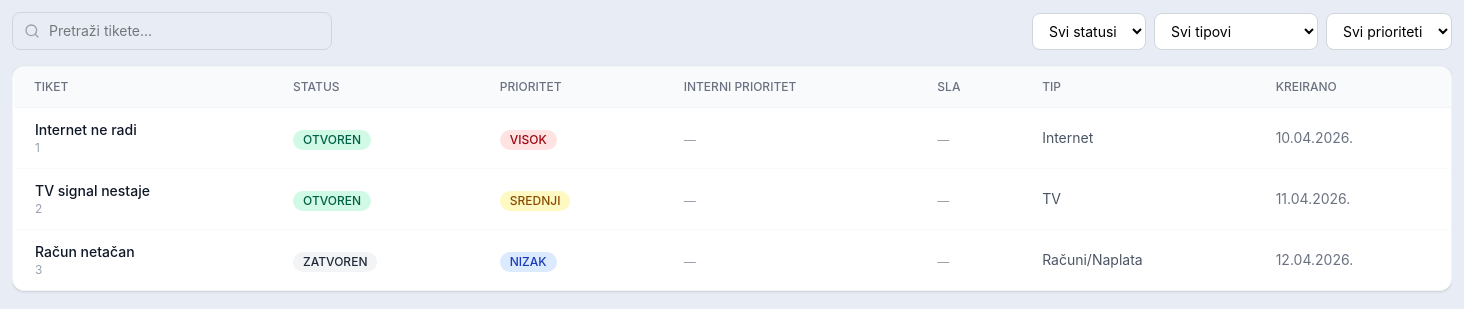
PB-32 Tickets system flow — agent pregled svih tiketa › agent otvara listu svih tiketa, vidi tikete od različitih klijenata i može ih pretražiti
// Agent pretražuje tikete po naslovu
In the field with placeholder "Pretraži tikete...": (172,31) 12,12 -> 332,50, type "internet"
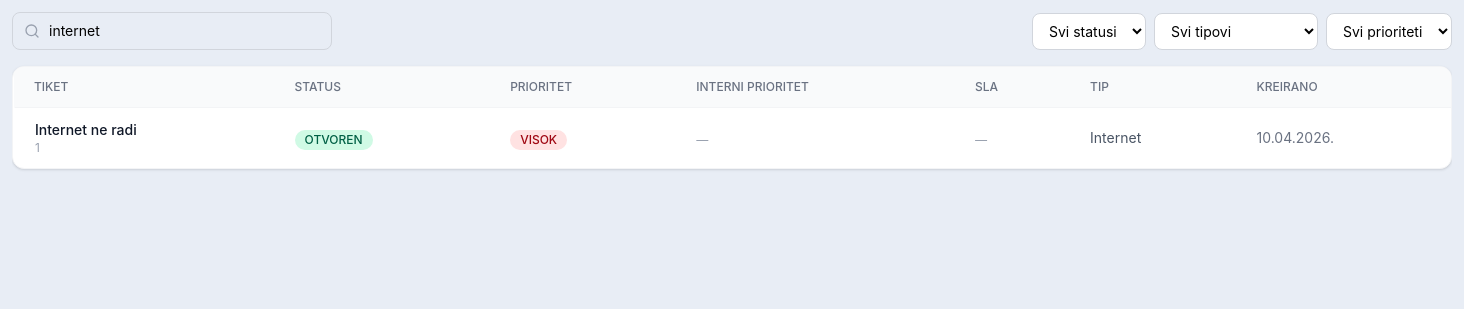
Check: the text "TV signal nestaje" is not shown
